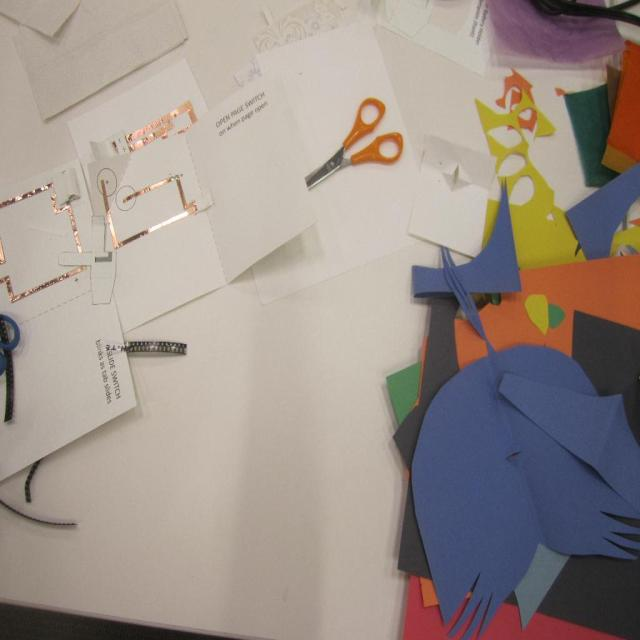scissors: (304, 97, 403, 191)
